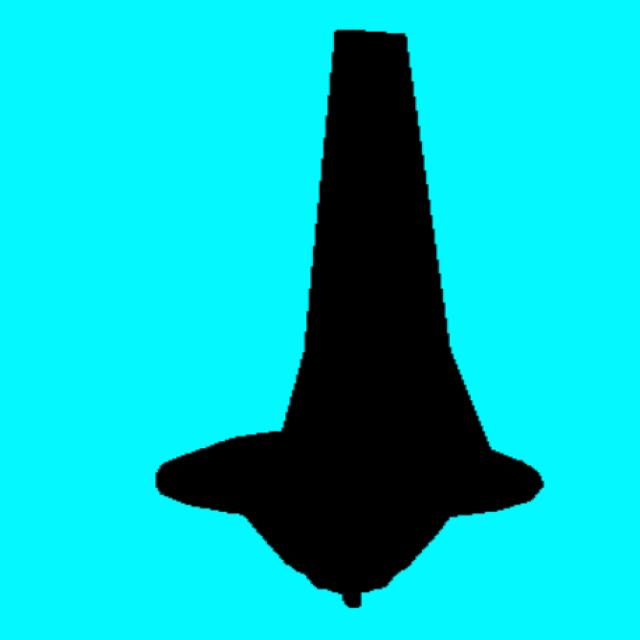BlackBuoy: (156, 31, 543, 606)
